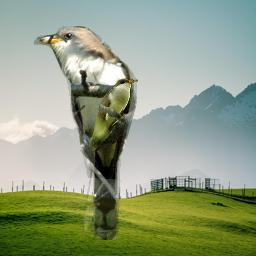Cuckoo: (34, 26, 137, 240), (88, 78, 138, 151)
